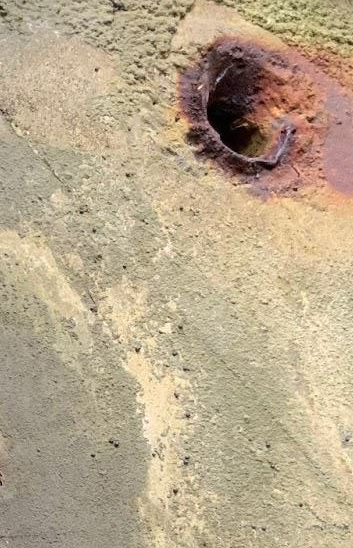Corrosion: (174, 33, 353, 204)
